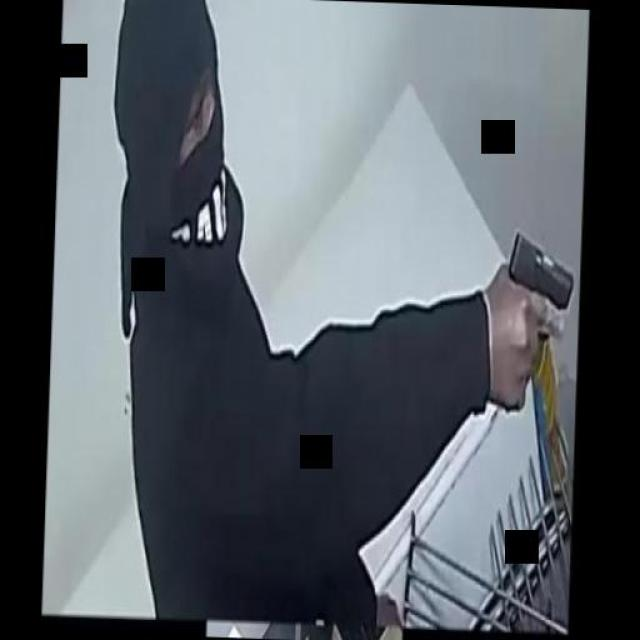gun: (495, 220, 580, 418)
